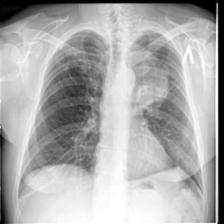tuberculosis: (19, 27, 206, 203)
